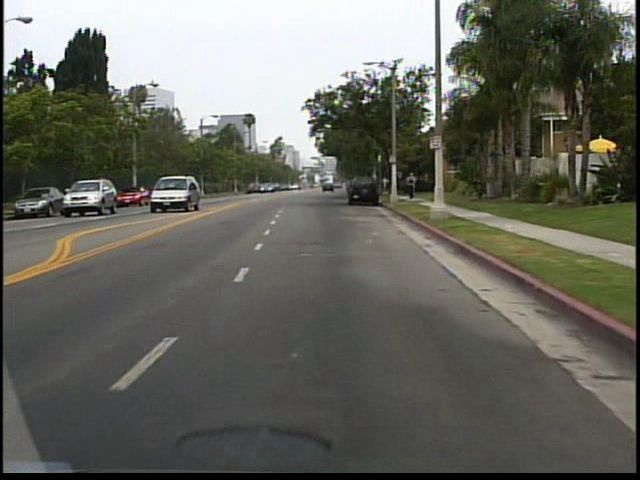person: (406, 169, 420, 201), (406, 174, 415, 201)
